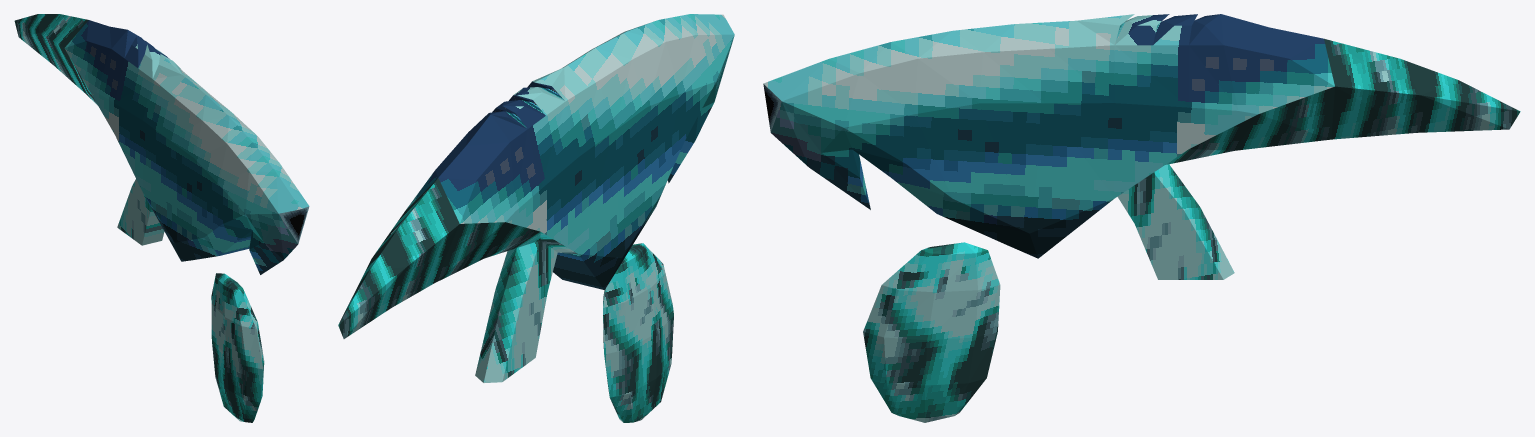
The model's file is Gun000C.obj.
The picture shows the model from 3 angles, left to right: view 1: azimuth 30°, elevation 25°; view 2: azimuth 150°, elevation 25°; view 3: azimuth 270°, elevation 25°; orthographic projection. The views are drawn at different scales.
Parts seen in each view (by area): view 1: Room01_primary, Room03_primary; view 2: Room01_primary, Room03_primary; view 3: Room01_primary, Room03_primary.
Boxes of the visible parts, bbox=[...] form: Room01_primary: bbox=[14, 14, 309, 274]; Room03_primary: bbox=[211, 273, 264, 422]; Room01_primary: bbox=[338, 14, 734, 382]; Room03_primary: bbox=[603, 243, 673, 422]; Room01_primary: bbox=[763, 14, 1520, 279]; Room03_primary: bbox=[863, 242, 1000, 422].
Size of the model in its own units: 62.75 by 365 by 612.
34 materials, 34 textured.
